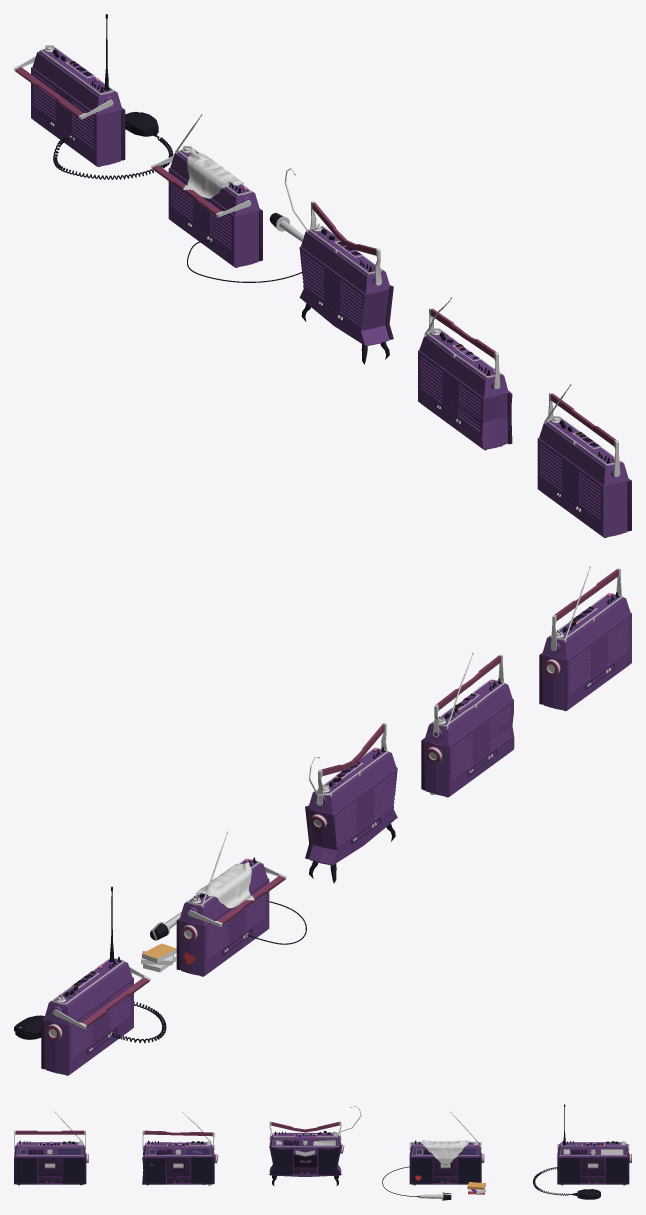
The picture shows the model from 3 angles, top to bottom: view 1: azimuth 30°, elevation 25°; view 2: azimuth 150°, elevation 25°; view 3: azimuth 270°, elevation 25°; orthographic projection. The views are drawn at different scales.
Visible parts, largest first — view 1: Cube, Cube.034, Cube.042, Cube.023, Cube.091, Cube.001, Cube.063, Cube.035, Cube.027, Plane, Cube.098, Cube.041 (+3 smaller); view 2: Cube.034, Cube, Cube.042, Cube.023, Cube.091, Cube.001, Cube.063, Cube.035, Cube.027, Plane, Cube.098, Cube.059 (+3 smaller); view 3: Cube.006, Cube.051, Cube.104, Cube.040, Cube.072, Plane, Cube.001, Cube.027, Cube.063, Cube.035, Cube.042, Cube.038 (+23 smaller).
Part boxes in pixels (left/top/right/bottom): Cube: left=537, top=438, right=629, bottom=537; Cube.034: left=418, top=350, right=510, bottom=449; Cube.042: left=299, top=246, right=389, bottom=346; Cube.023: left=31, top=67, right=123, bottom=166; Cube.091: left=168, top=168, right=260, bottom=267; Cube.001: left=539, top=423, right=628, bottom=485; Cube.063: left=301, top=231, right=389, bottom=294; Cube.035: left=419, top=336, right=508, bottom=397; Cube.027: left=32, top=52, right=122, bottom=114; Plane: left=183, top=148, right=243, bottom=198; Cube.098: left=170, top=153, right=259, bottom=215; Cube.041: left=426, top=330, right=501, bottom=379; Cube.034: left=423, top=699, right=514, bottom=797; Cube: left=541, top=613, right=631, bottom=710; Cube.042: left=309, top=767, right=397, bottom=865; Cube.023: left=43, top=977, right=133, bottom=1075; Cube.091: left=178, top=878, right=269, bottom=976; Cube.001: left=542, top=597, right=630, bottom=659; Cube.063: left=308, top=752, right=396, bottom=814; Cube.035: left=424, top=680, right=512, bottom=745; Cube.027: left=44, top=962, right=132, bottom=1024; Plane: left=196, top=862, right=254, bottom=908; Cube.098: left=179, top=863, right=267, bottom=925; Cube.059: left=50, top=958, right=125, bottom=1006; Cube.006: left=14, top=1156, right=86, bottom=1184; Cube.051: left=557, top=1156, right=629, bottom=1184; Cube.104: left=409, top=1156, right=481, bottom=1184; Cube.040: left=142, top=1156, right=214, bottom=1184; Cube.072: left=269, top=1146, right=341, bottom=1175; Plane: left=421, top=1140, right=470, bottom=1166; Cube.001: left=14, top=1142, right=85, bottom=1156; Cube.027: left=558, top=1142, right=628, bottom=1156; Cube.063: left=270, top=1133, right=340, bottom=1147; Cube.035: left=143, top=1143, right=213, bottom=1156; Cube.042: left=269, top=1141, right=341, bottom=1176; Cube.038: left=166, top=1157, right=190, bottom=1176.
Size of the model in its own units: 490 by 560 by 3913.
